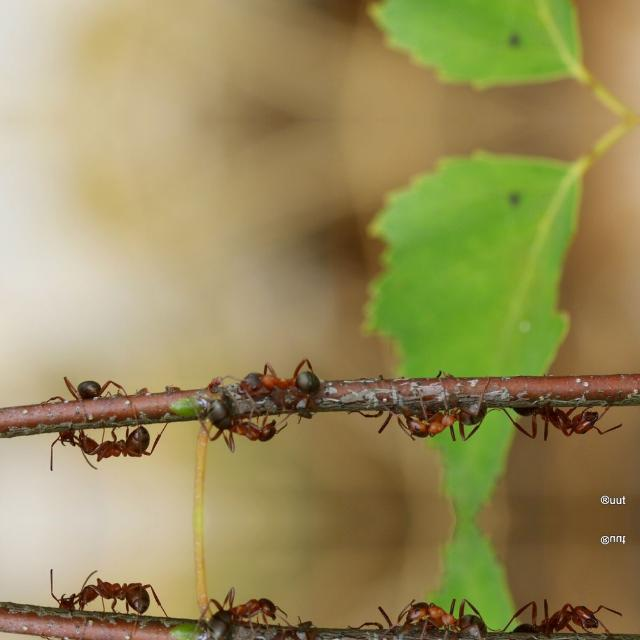Formica: (31, 370, 133, 446), (63, 420, 184, 480), (63, 560, 184, 620), (503, 388, 617, 450), (503, 590, 617, 640), (200, 399, 292, 457), (200, 582, 290, 640), (234, 354, 330, 408), (31, 594, 133, 640), (397, 392, 487, 442), (397, 598, 487, 640)
